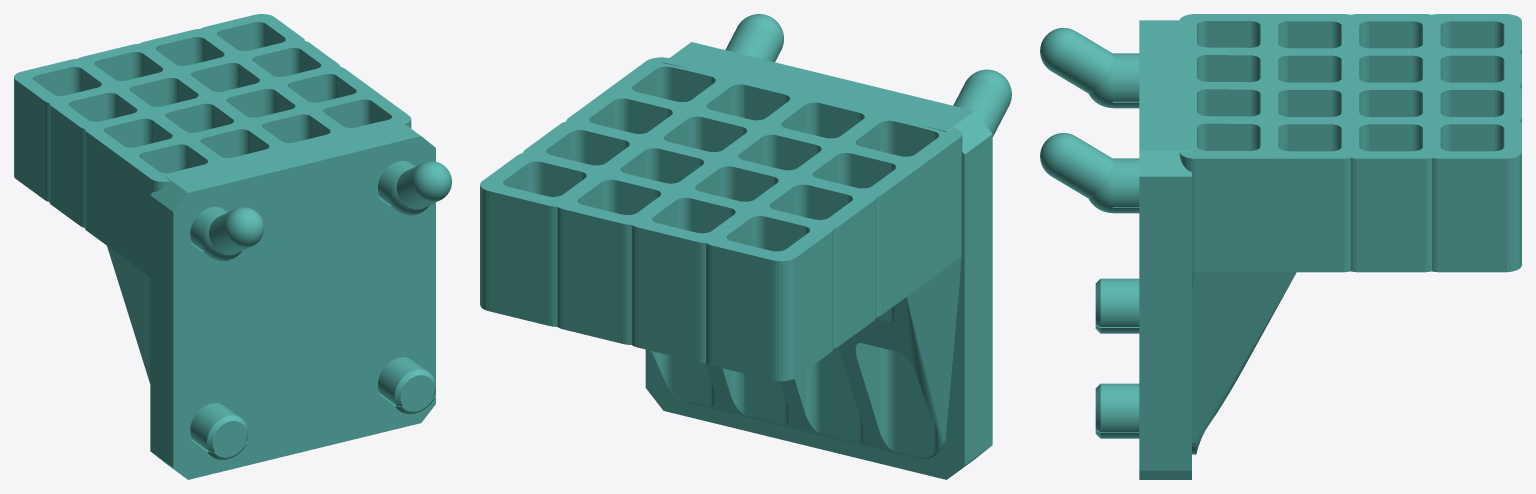
Rendered from part-pegstr-p01__v2__pegstr-p01-16-small-square-seats__installed__fit-9c7be3cc78.glb.
The picture shows the model from 3 angles, left to right: view 1: azimuth 30°, elevation 25°; view 2: azimuth 150°, elevation 25°; view 3: azimuth 270°, elevation 25°; orthographic projection. The views are drawn at different scales.
Visible parts, largest first — view 1: Actual holder mesh; view 2: Actual holder mesh; view 3: Actual holder mesh.
Boxes of the visible parts, x1,y1,x2,y2 form: Actual holder mesh: [14, 14, 451, 479]; Actual holder mesh: [480, 14, 1011, 479]; Actual holder mesh: [1040, 14, 1521, 479].
Bounding box in the file's own units: 0.0356 × 0.0374 × 0.0492.
